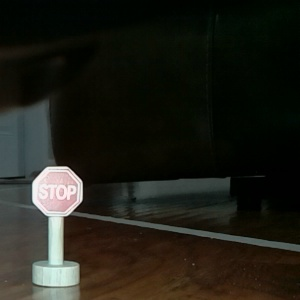stop sign: (29, 163, 84, 289)
